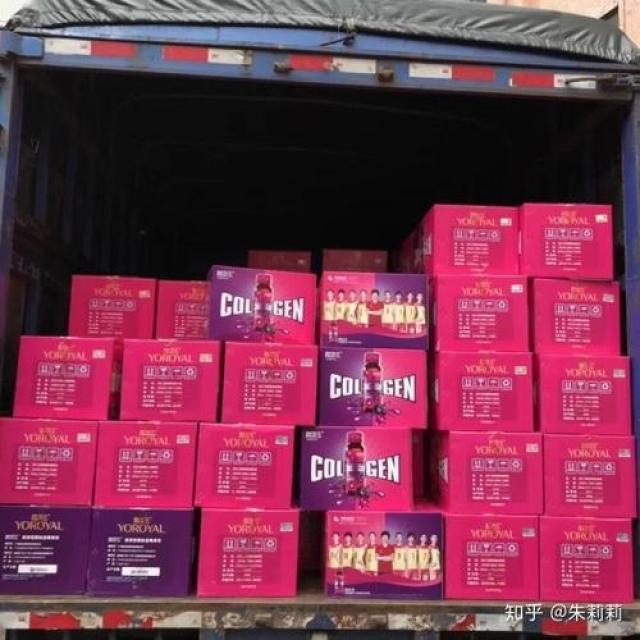box: (319, 497, 444, 600), (297, 426, 426, 511), (424, 430, 544, 515), (86, 506, 198, 596), (195, 504, 303, 596), (12, 335, 123, 421), (92, 420, 200, 506), (193, 422, 300, 508), (319, 348, 430, 430), (218, 339, 321, 426), (0, 417, 100, 506), (315, 271, 429, 349), (412, 204, 520, 284), (119, 339, 223, 422), (206, 265, 315, 344), (429, 275, 530, 360), (531, 351, 634, 434), (443, 511, 539, 600), (539, 515, 636, 603), (429, 351, 534, 431), (0, 506, 92, 596), (541, 434, 639, 517), (530, 275, 622, 356), (520, 204, 613, 283), (69, 275, 156, 339), (155, 279, 210, 339), (323, 250, 387, 271), (387, 229, 416, 274), (248, 252, 310, 271)
